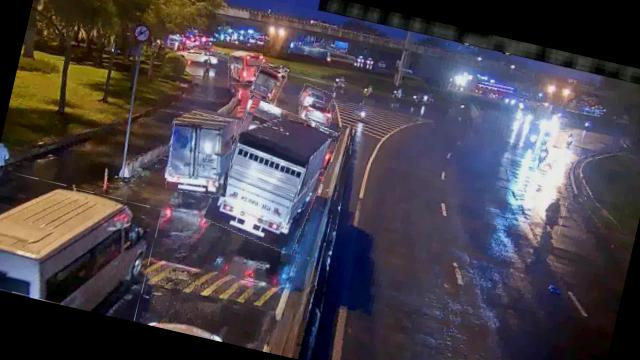Bike: (537, 191, 568, 235), (534, 144, 552, 170)
Bus: (0, 169, 161, 321), (224, 48, 266, 88)
Car: (299, 93, 337, 126), (297, 85, 333, 114), (246, 88, 276, 118)
Truck: (205, 98, 338, 254), (161, 109, 240, 200), (250, 64, 288, 104)
